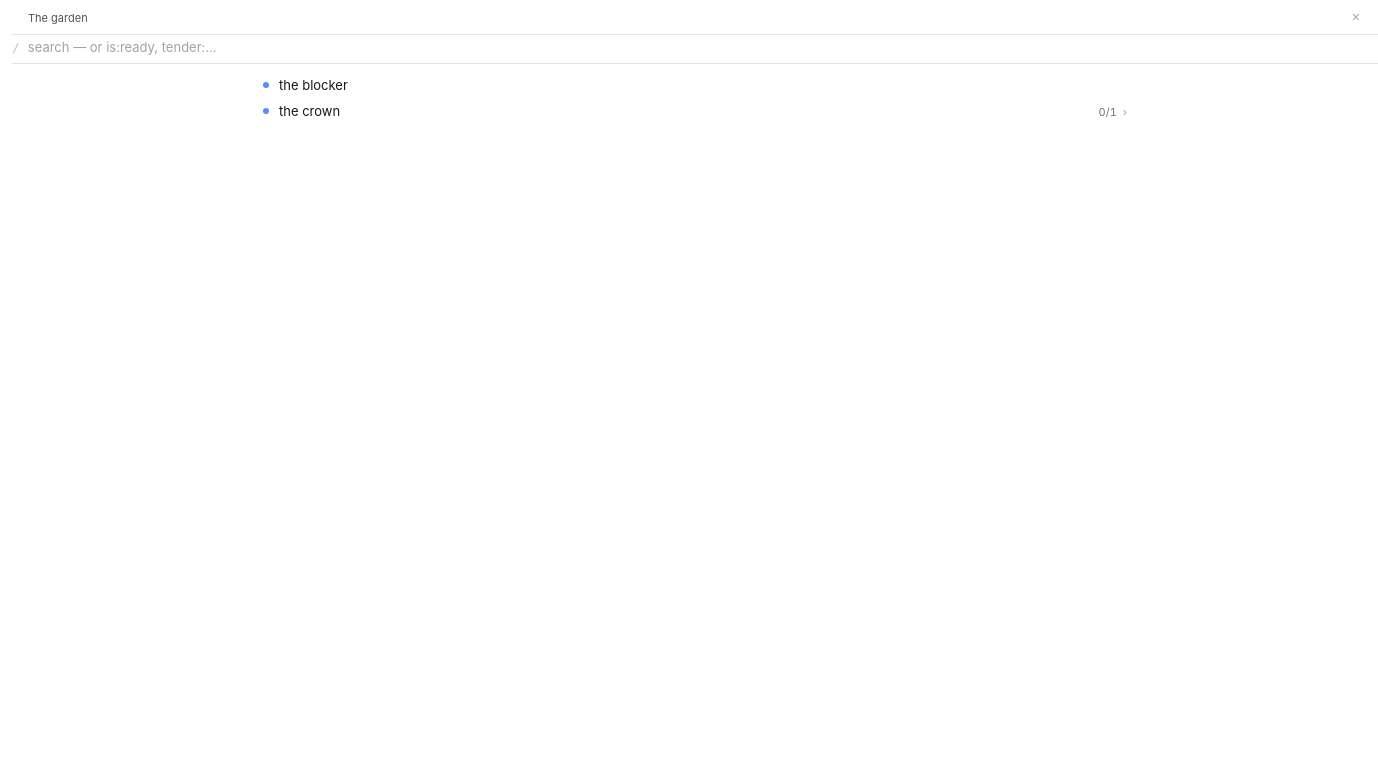
Test: GardenPanel edges › says how many block a seed, and says nothing about one that is free
Expected: the button "the blocker" is shown, [255,72,1135,98]
Click the button "the crown 0/1 ›". click: (310, 111)
box: [255,98,1135,124]
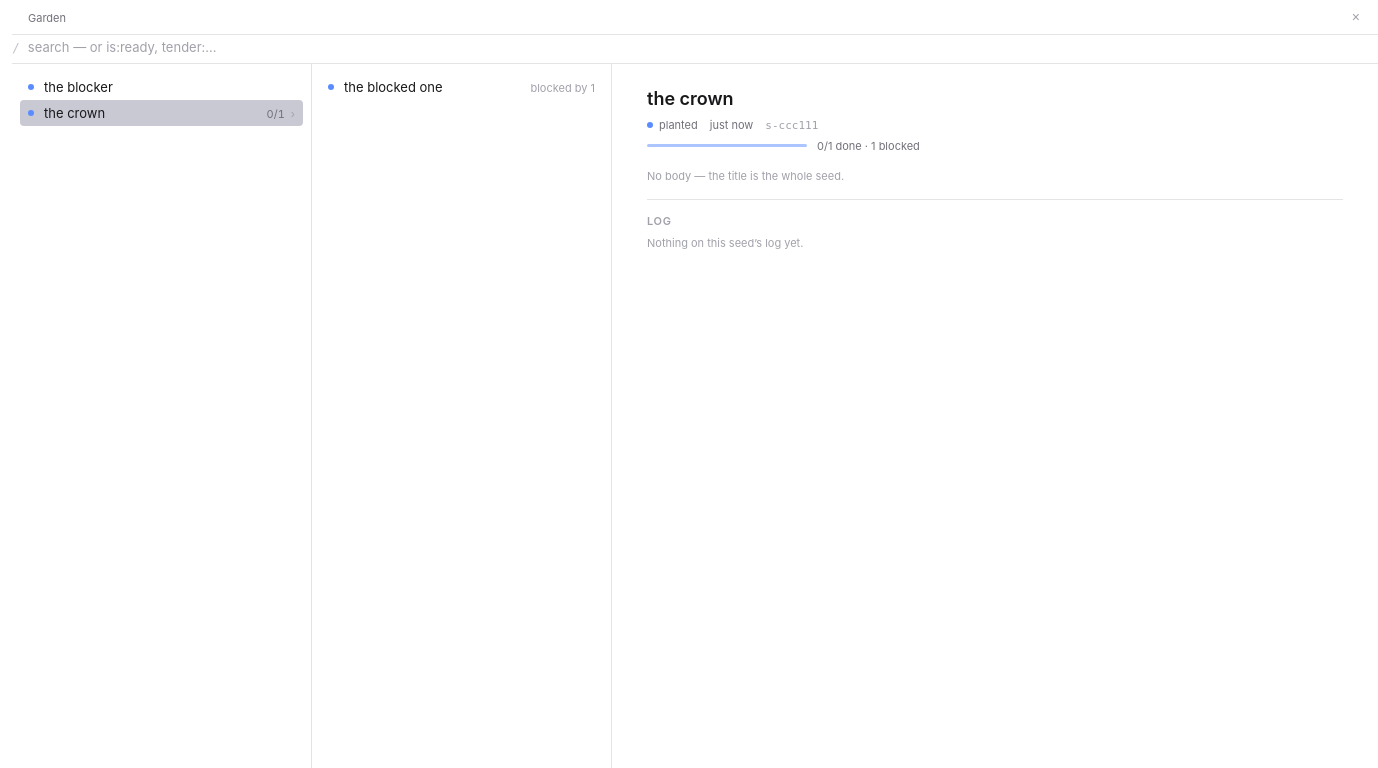
Result: the text "blocked by 1" is shown at [530,81,595,95]
